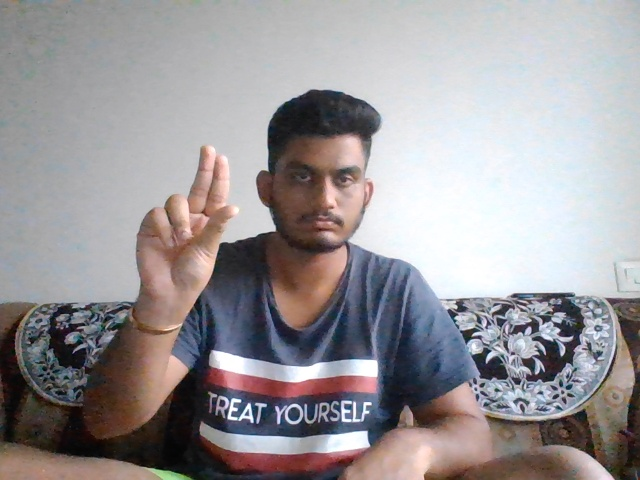No: (120, 142, 246, 286)
